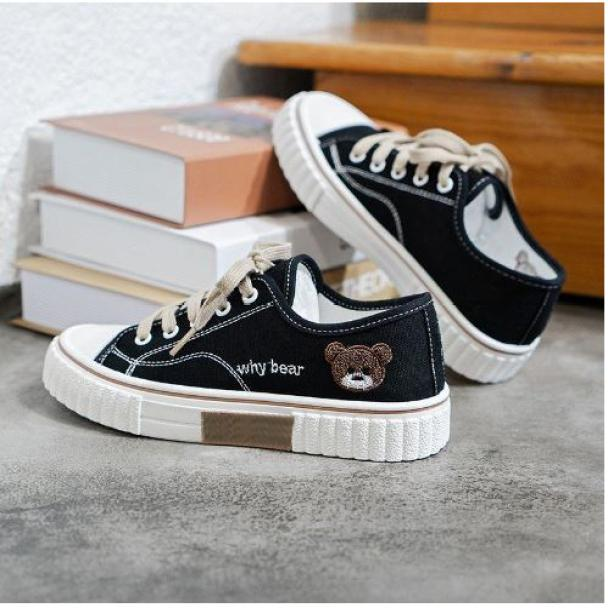Sepatu: (264, 84, 565, 388), (37, 256, 458, 469)
